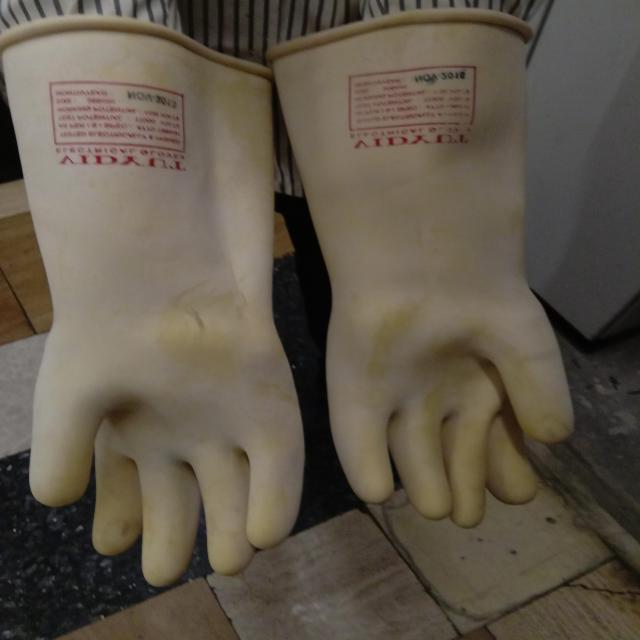gloved_hand: (2, 14, 320, 594), (261, 4, 591, 530)
